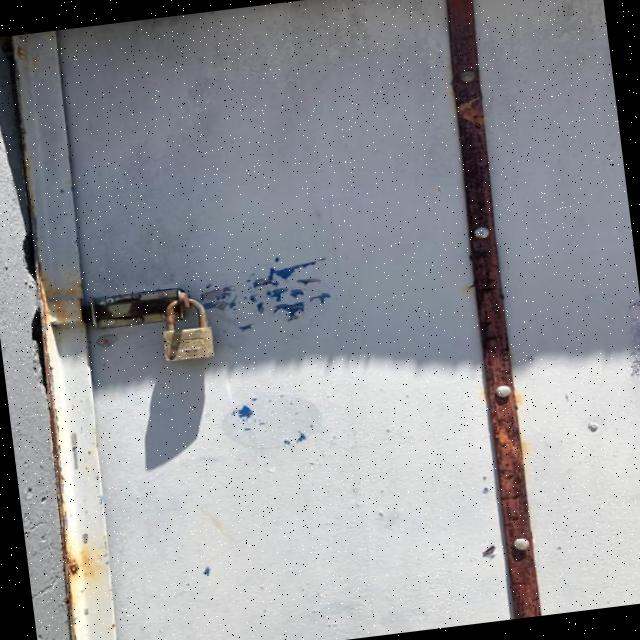Corrosion: (433, 0, 550, 617), (155, 292, 215, 362)
